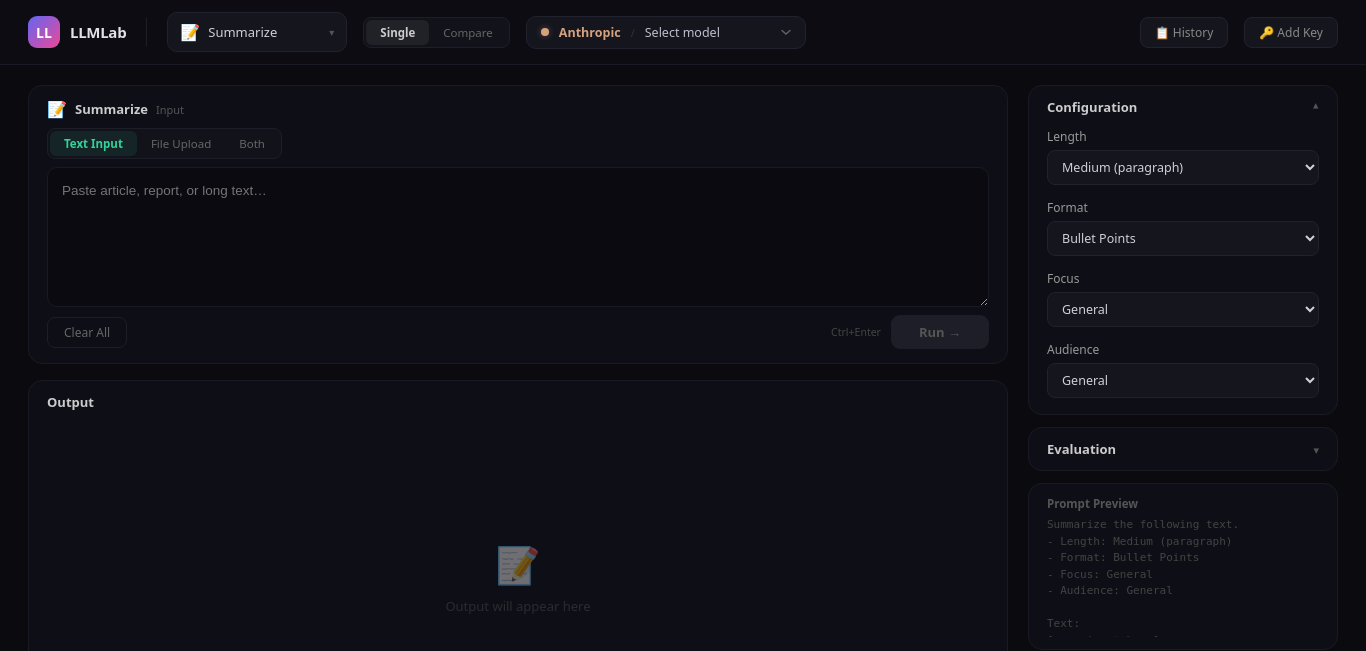
Test case: App › shows LLM-as-Judge section in evaluation panel when in compare mode
This screenshot has width=1366, height=651.
Step 1. Click the button "Compare" → (468, 32), box [429,20,507,44]
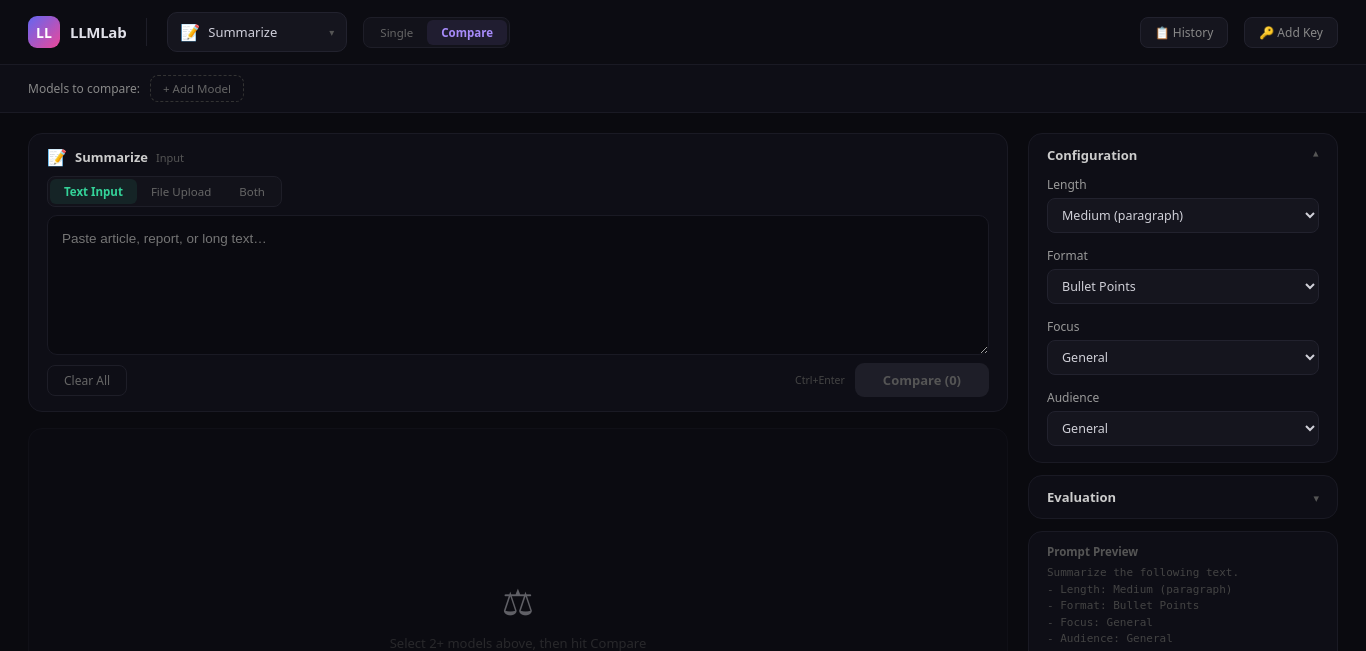
Note: Open evaluation panel
Step 2. Click the text "Evaluation" → (1082, 497), box [1047,488,1116,506]
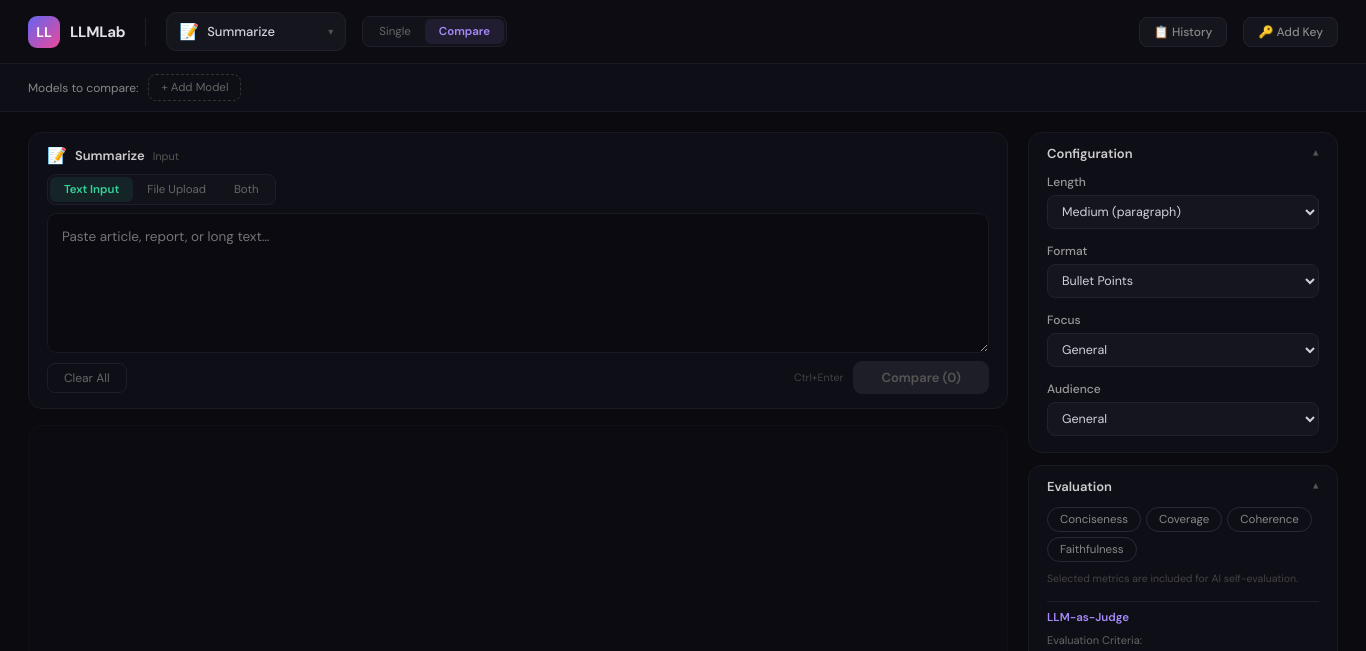
Check: the text "LLM-as-Judge" is shown, box [1047,610,1129,625]
